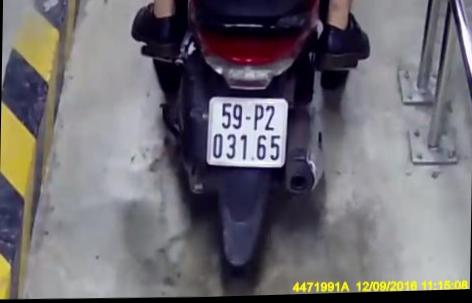LP: (204, 93, 289, 174)
